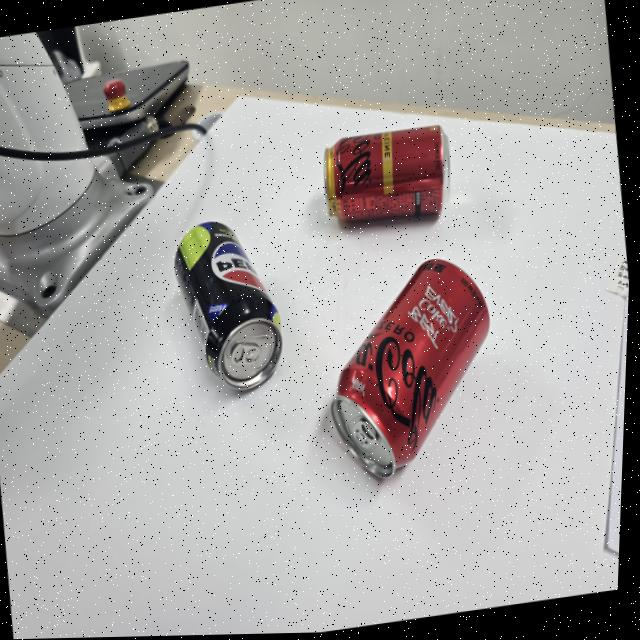can_coke_decaf: (322, 123, 454, 228)
can_coke_zero: (325, 257, 494, 485)
can_pepsi_zero: (171, 221, 285, 396)
